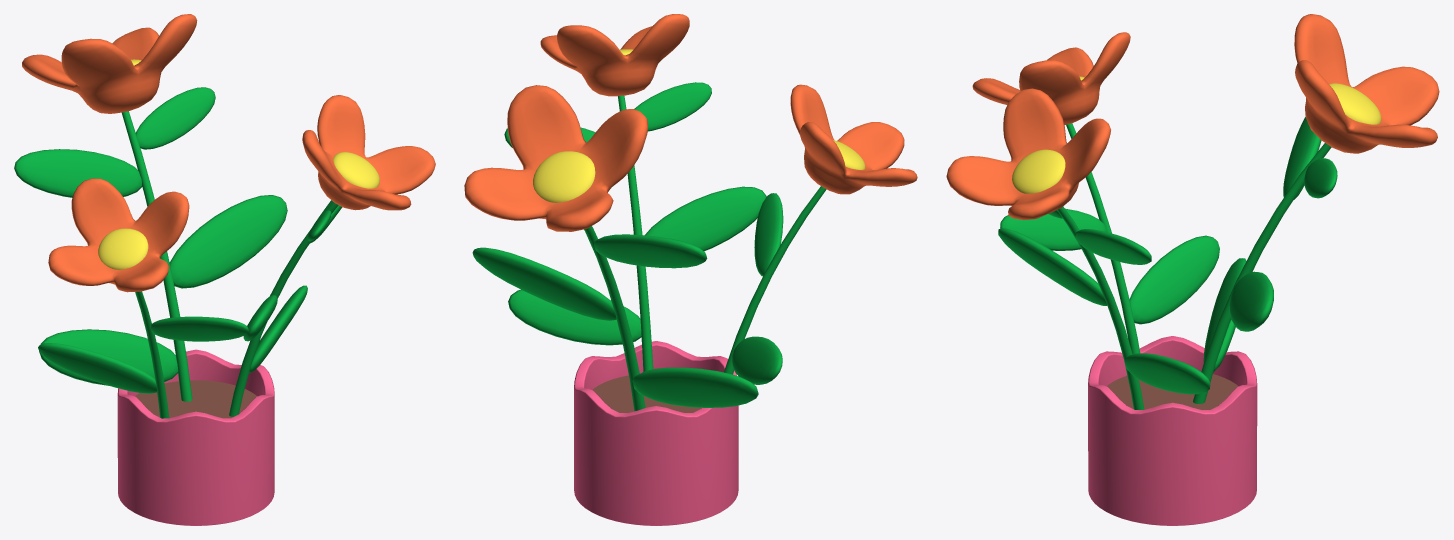
The model's file is Town_16_Flowers_1.glb.
The picture shows the model from 3 angles, left to right: view 1: azimuth 30°, elevation 25°; view 2: azimuth 150°, elevation 25°; view 3: azimuth 270°, elevation 25°; orthographic projection. The views are drawn at different scales.
Parts seen in each view (by area): view 1: Town_16_Flowers_1; view 2: Town_16_Flowers_1; view 3: Town_16_Flowers_1.
Boxes of the visible parts, x1,y1,x2,y2 form: Town_16_Flowers_1: [14, 14, 435, 525]; Town_16_Flowers_1: [464, 14, 917, 525]; Town_16_Flowers_1: [946, 14, 1439, 525].
Size of the model in its own units: 0.8052 by 0.8768 by 0.8649.
1 material, 1 textured.
